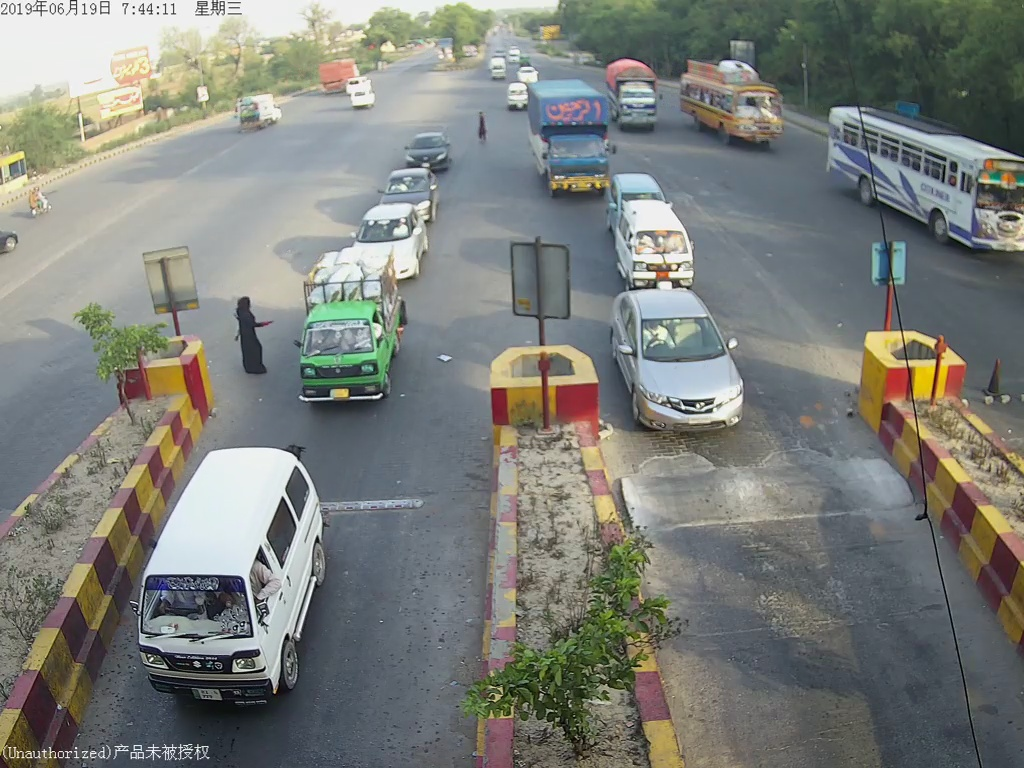Cat-1: (141, 453, 339, 702), (611, 300, 750, 424), (294, 256, 406, 395), (619, 215, 697, 293)
Cat-2: (524, 85, 616, 202)
